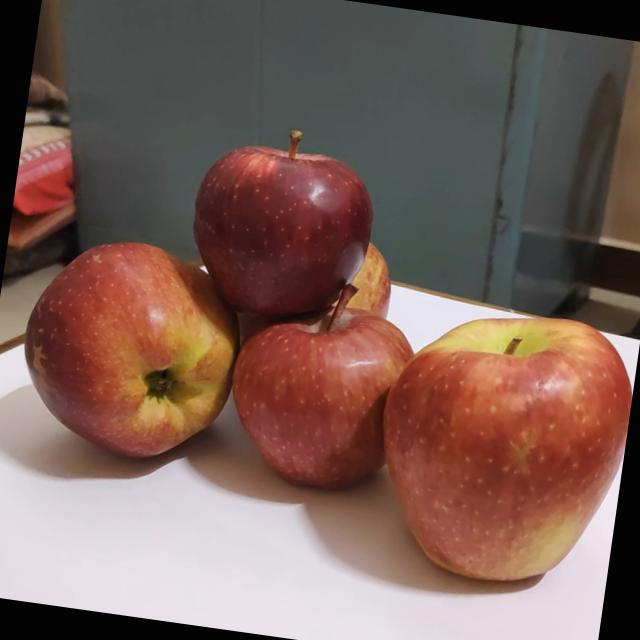apple: (360, 291, 640, 602), (7, 225, 255, 476), (221, 265, 428, 507), (178, 112, 396, 334), (326, 232, 404, 328)
